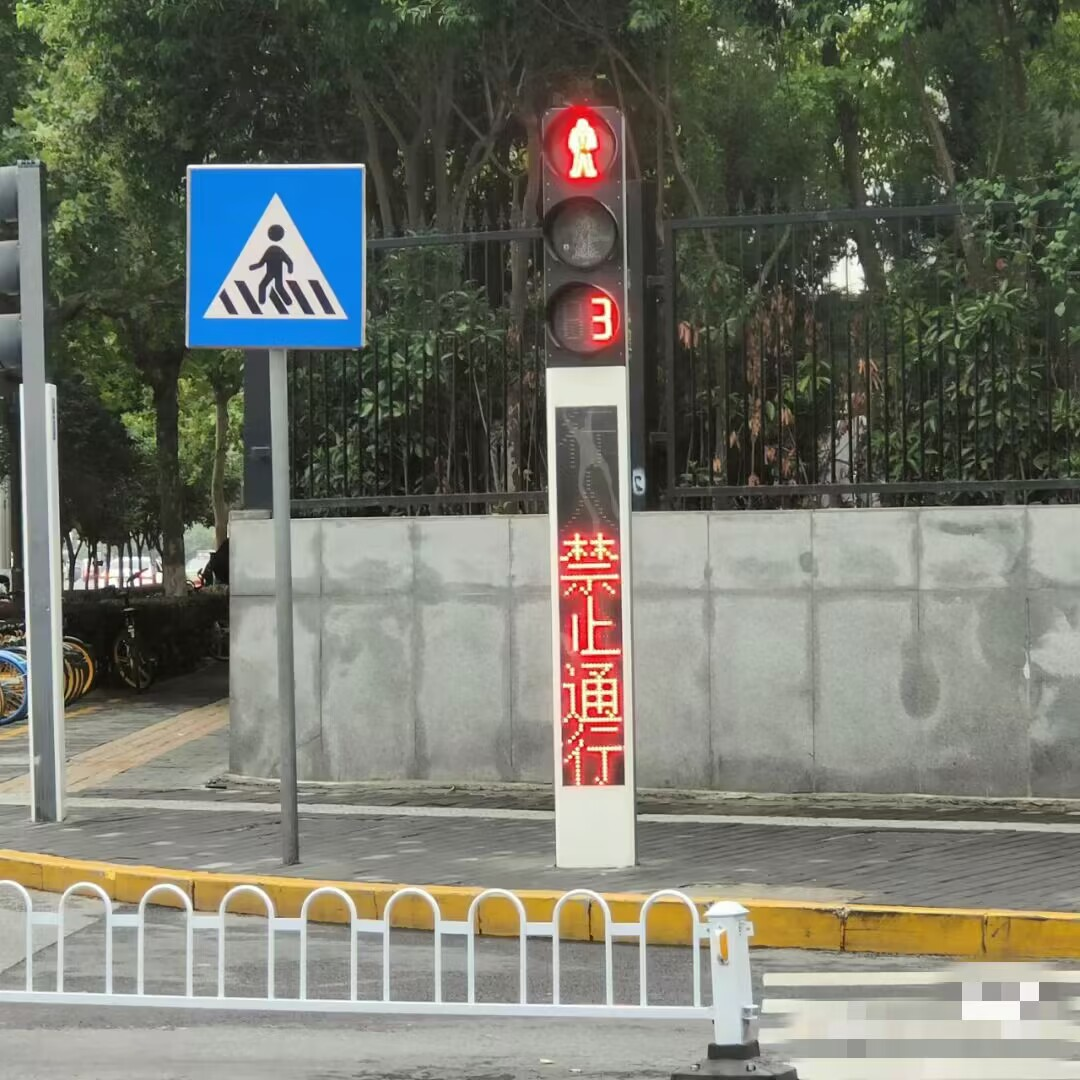ip: (187, 169, 365, 348)
